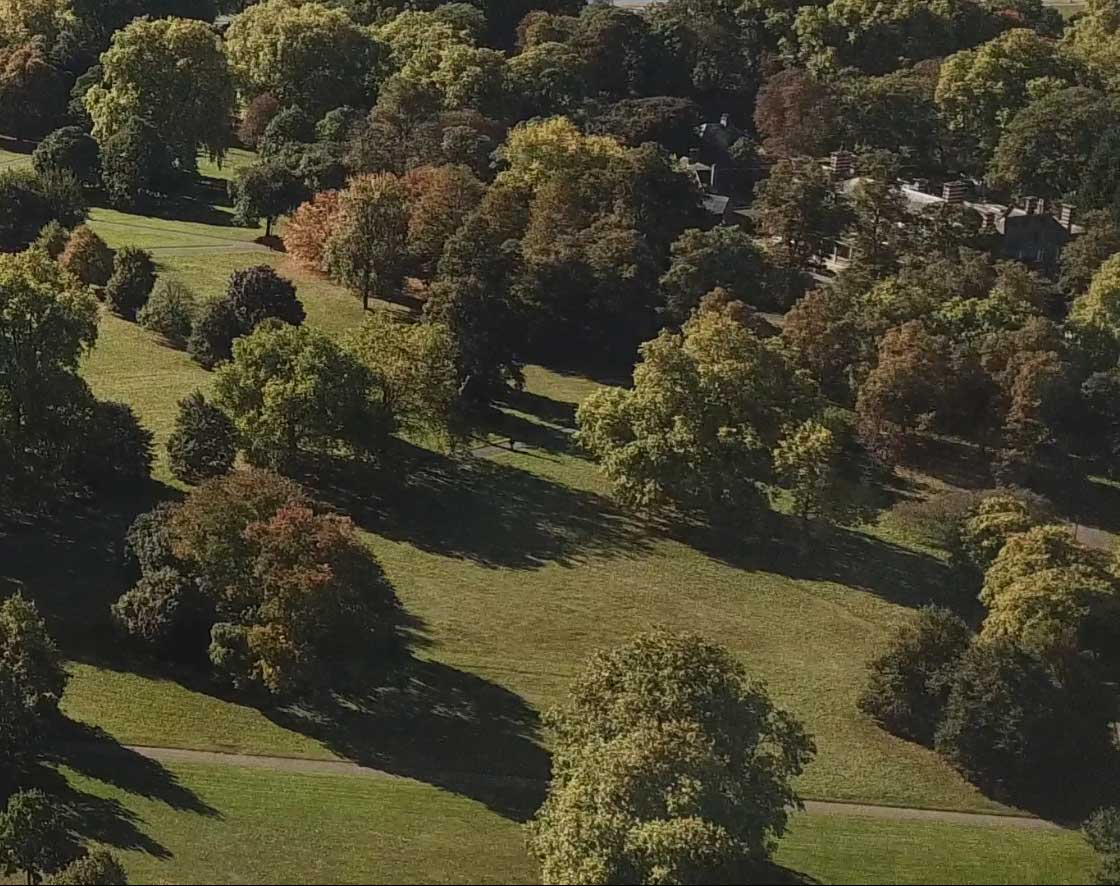tree: (520, 606, 820, 886), (166, 467, 431, 734), (586, 309, 828, 535), (210, 314, 370, 492), (319, 171, 423, 321), (215, 150, 313, 265), (52, 221, 120, 311)
